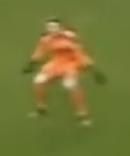goalkeeper: (16, 9, 118, 135)
